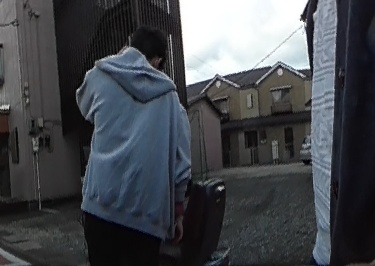person: (86, 29, 190, 266)
